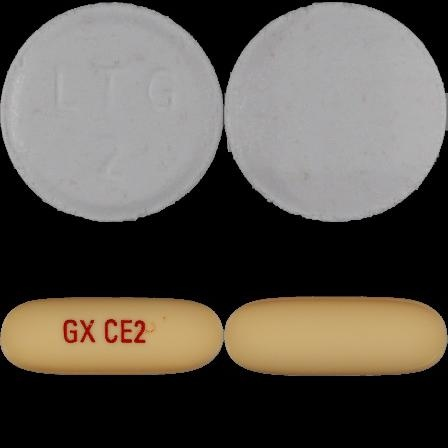0173-0699: (0, 0, 224, 224)
